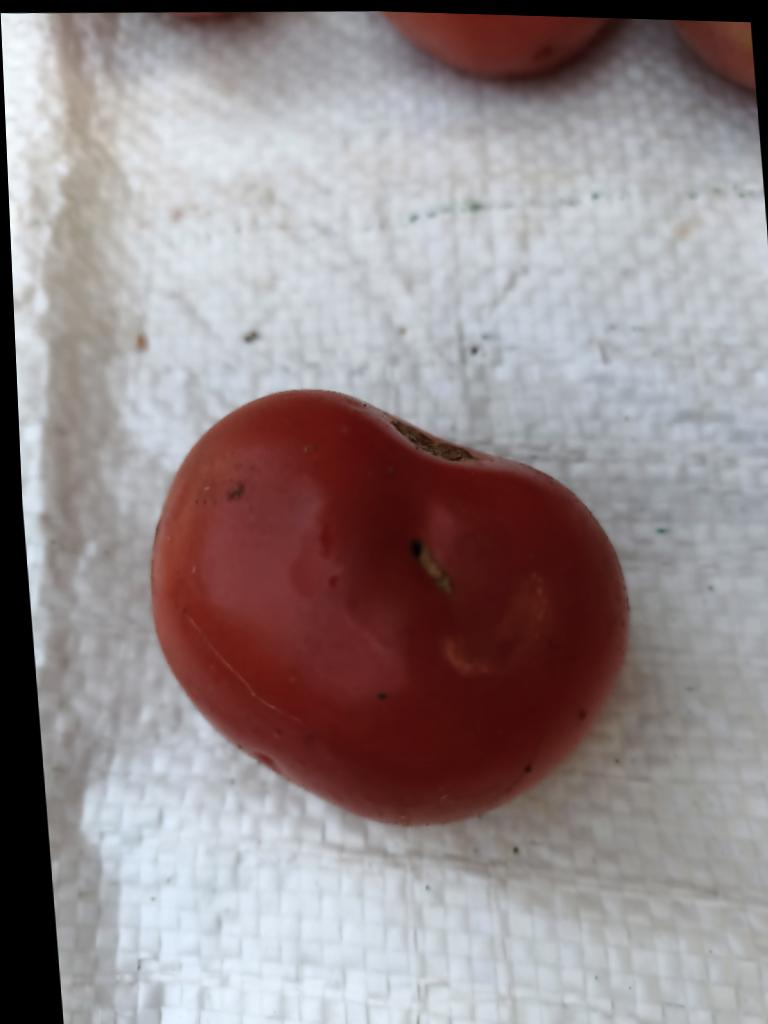surface_damage: (189, 616, 288, 716), (411, 540, 452, 594), (289, 716, 300, 722)
tomato: (152, 391, 627, 825)
